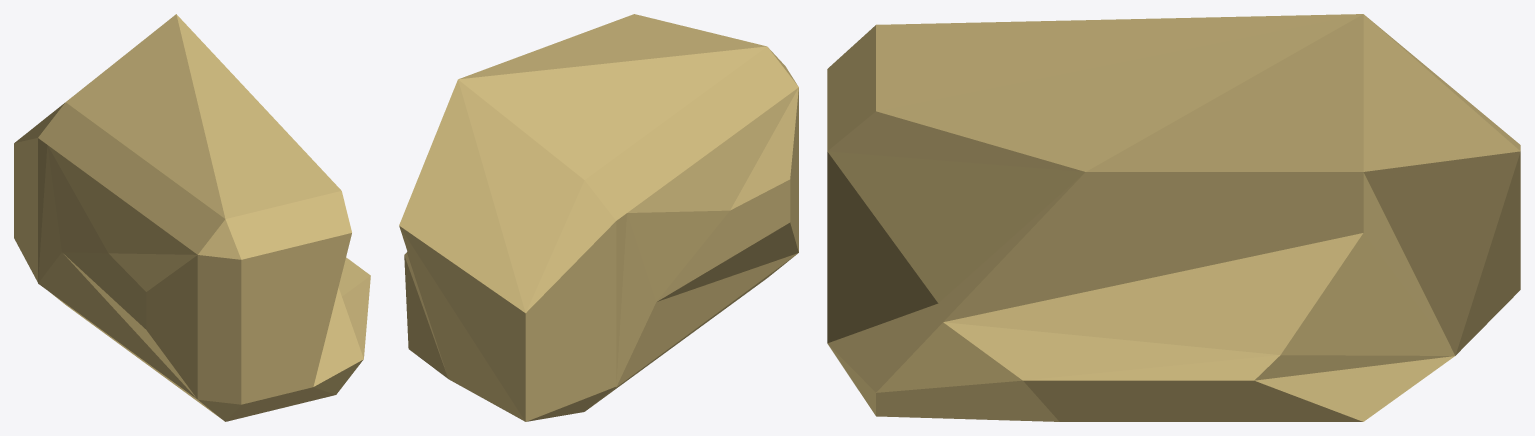
File: Rock4.fbx
3 views of the same model, side by side, from view 1: azimuth 30°, elevation 25°; view 2: azimuth 150°, elevation 25°; view 3: azimuth 270°, elevation 25° (orthographic). The views are drawn at different scales.
Visible parts, largest first — view 1: Group1; view 2: Group1; view 3: Group1.
Part boxes in pixels (x1,y1,x2,y2): Group1: [14, 14, 370, 421]; Group1: [399, 14, 798, 421]; Group1: [827, 14, 1520, 421].
Bounding box in the file's own units: 4392 × 4555 × 7112.
